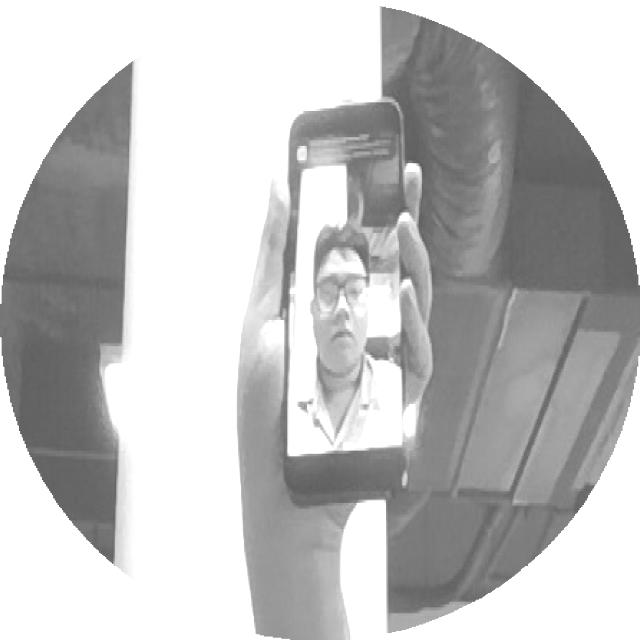fake: (220, 97, 457, 513), (263, 95, 419, 519)
